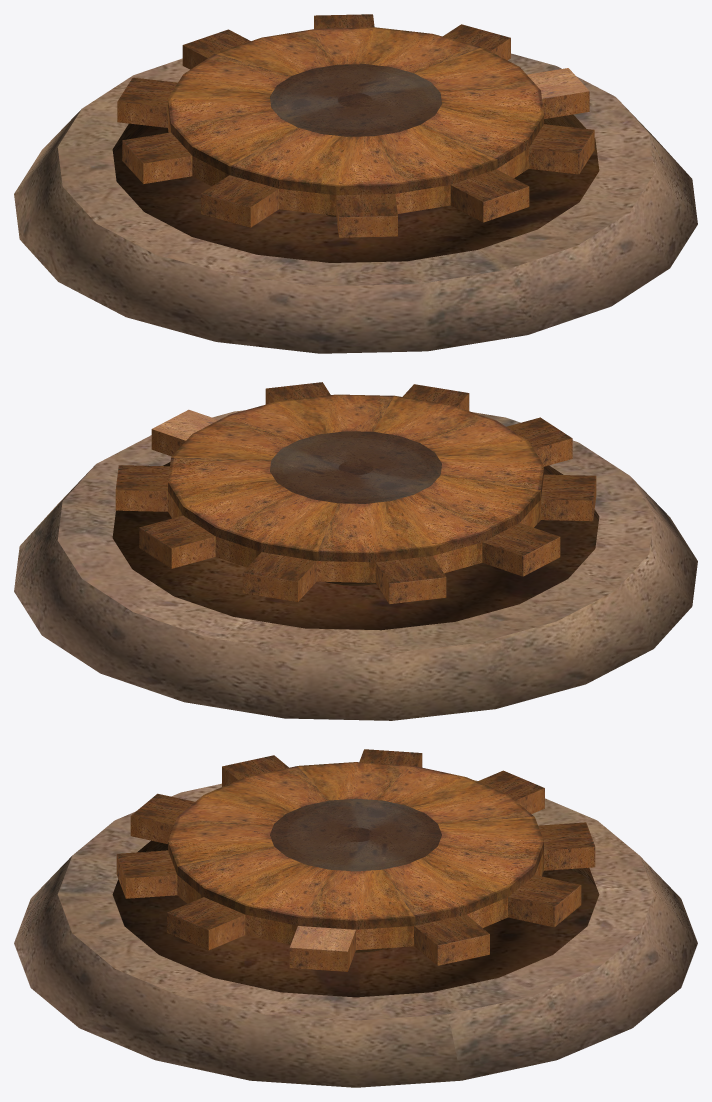
File: button_floor.fbx
3 views of the same model, one above another, from view 1: azimuth 30°, elevation 25°; view 2: azimuth 150°, elevation 25°; view 3: azimuth 270°, elevation 25° (orthographic).
Parts seen in each view (by area): view 1: polySurface4; view 2: polySurface4; view 3: polySurface4.
Boxes of the visible parts, box(x1,y1,x2,y2) form: polySurface4: box(14, 14, 697, 353); polySurface4: box(14, 382, 697, 720); polySurface4: box(14, 749, 697, 1087).
Bounding box in the file's own units: 956 × 167 × 956.
